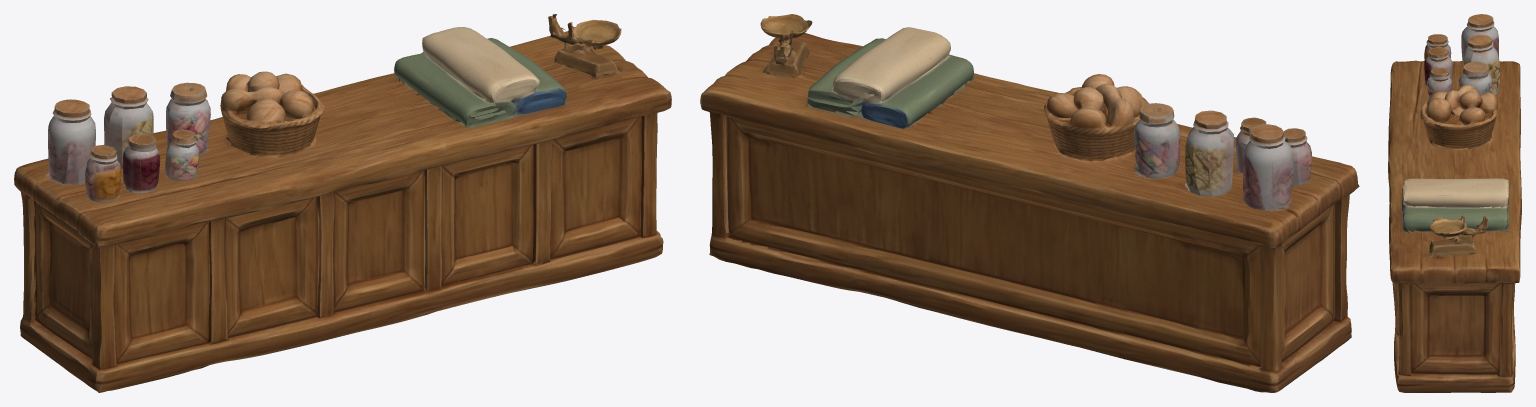
File: mira_shop_counter.glb
The picture shows the model from 3 angles, left to right: view 1: azimuth 30°, elevation 25°; view 2: azimuth 150°, elevation 25°; view 3: azimuth 270°, elevation 25°; orthographic projection. The views are drawn at different scales.
Visible parts, largest first — view 1: Mesh_0; view 2: Mesh_0; view 3: Mesh_0.
Part boxes in pixels (x1,y1,x2,y2): Mesh_0: [14, 14, 671, 392]; Mesh_0: [700, 14, 1359, 392]; Mesh_0: [1388, 14, 1521, 392].
Size of the model in its own units: 1.9 by 0.7598 by 0.5129.
1 material, 1 textured.
